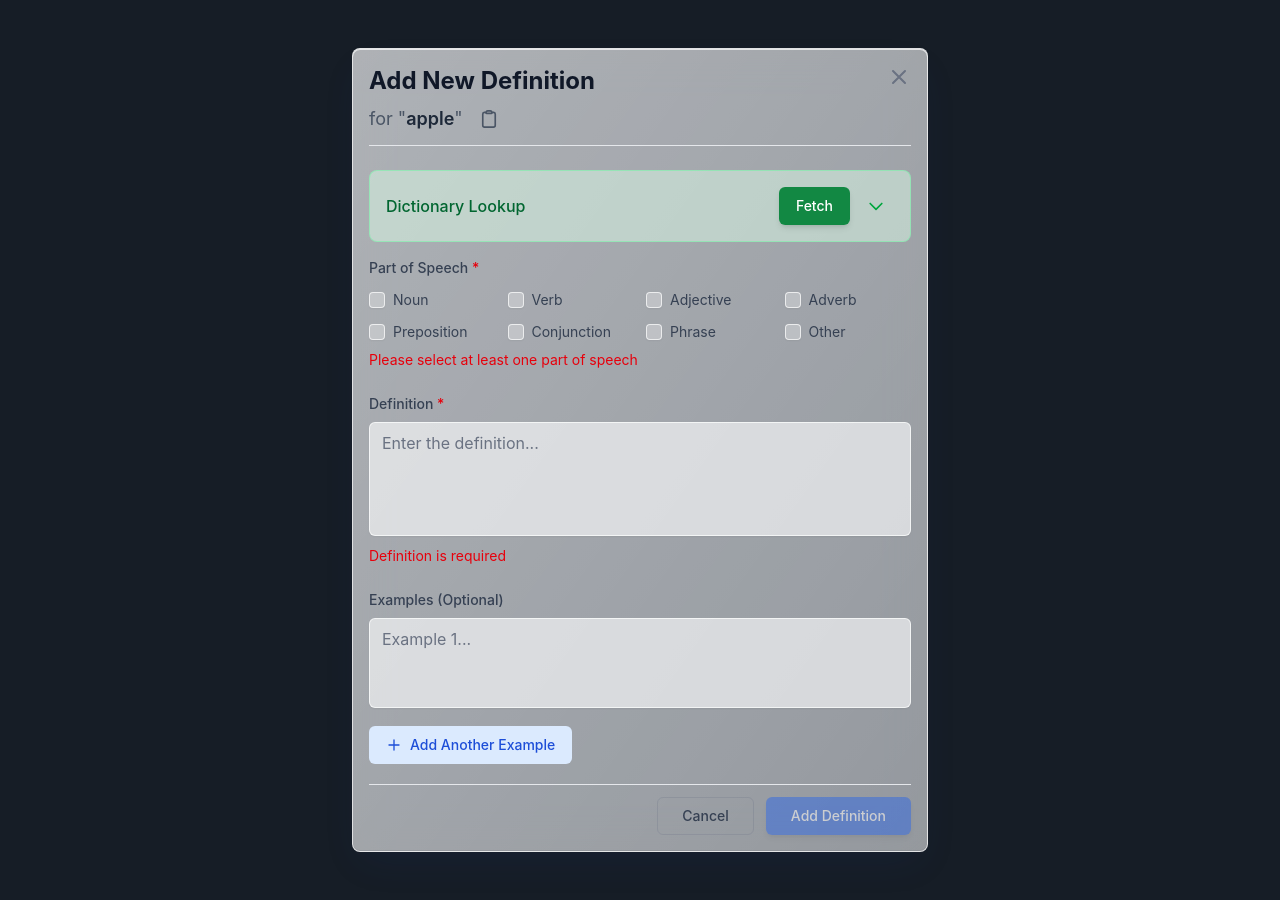
Scenario: DefinitionFormModal › copy word button › shows an error toast when copying the word fails
Click the button titled "Copy word text to clipboard" at (489, 119), box top-left (471, 101), bottom-right (507, 137)
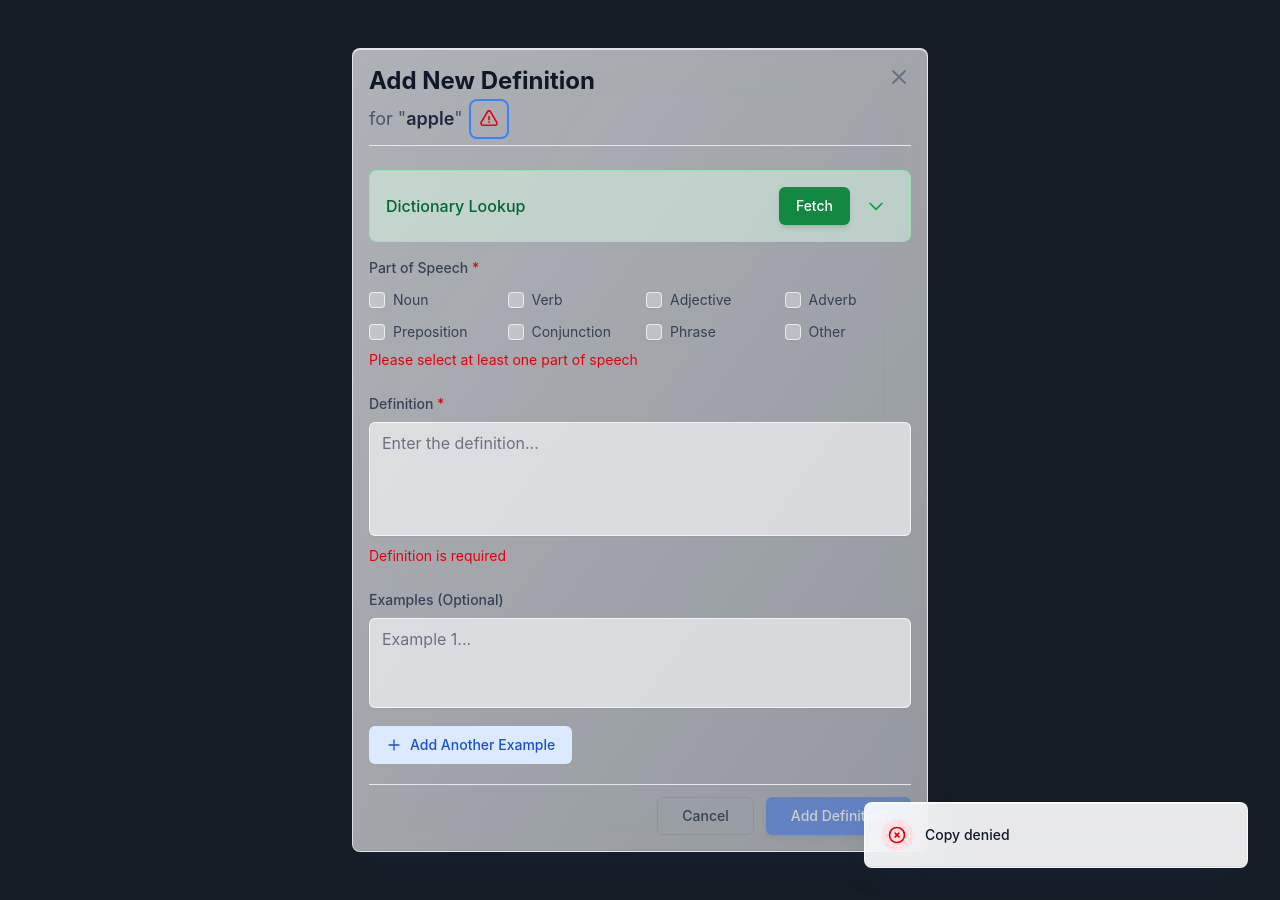
Result: the message "Copy denied" is shown at top-left (864, 802), bottom-right (1248, 868)
